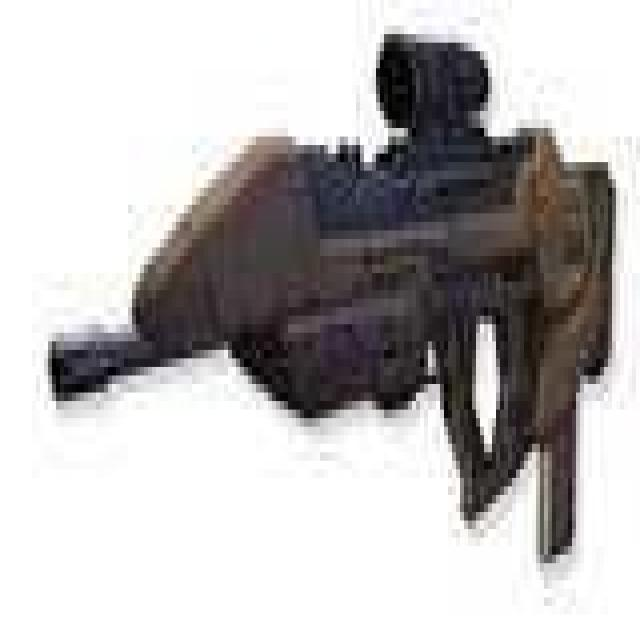RifleTel: (45, 25, 619, 571)
